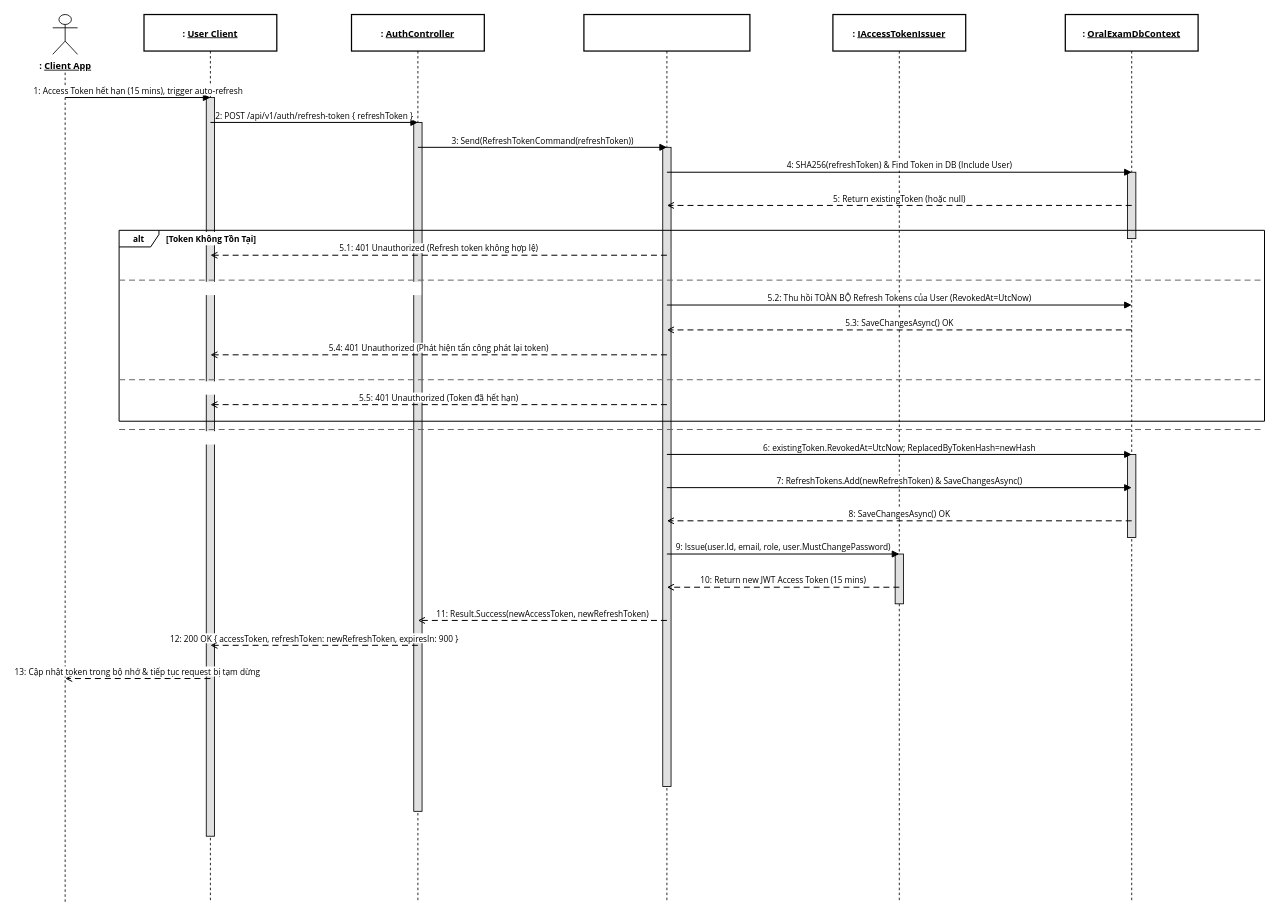
Some shapes in this 1280 by 919 pixel diagram are drawn without their labels. The shapes that lost their labels are listed below. From the top down, each one's box as (x1, y1, x2, y2) in pixels, then its label:
(583, 14, 750, 51): : RefreshTokenCommandHandler
(131, 281, 421, 295): [Replay Attack Detected: Token.IsRevoked == true]
(131, 381, 339, 394): [Token Hết Hạn: ExpiresAt < UtcNow]
(131, 431, 334, 444): [Token Hợp Lệ (Rotate Token Pair)]
